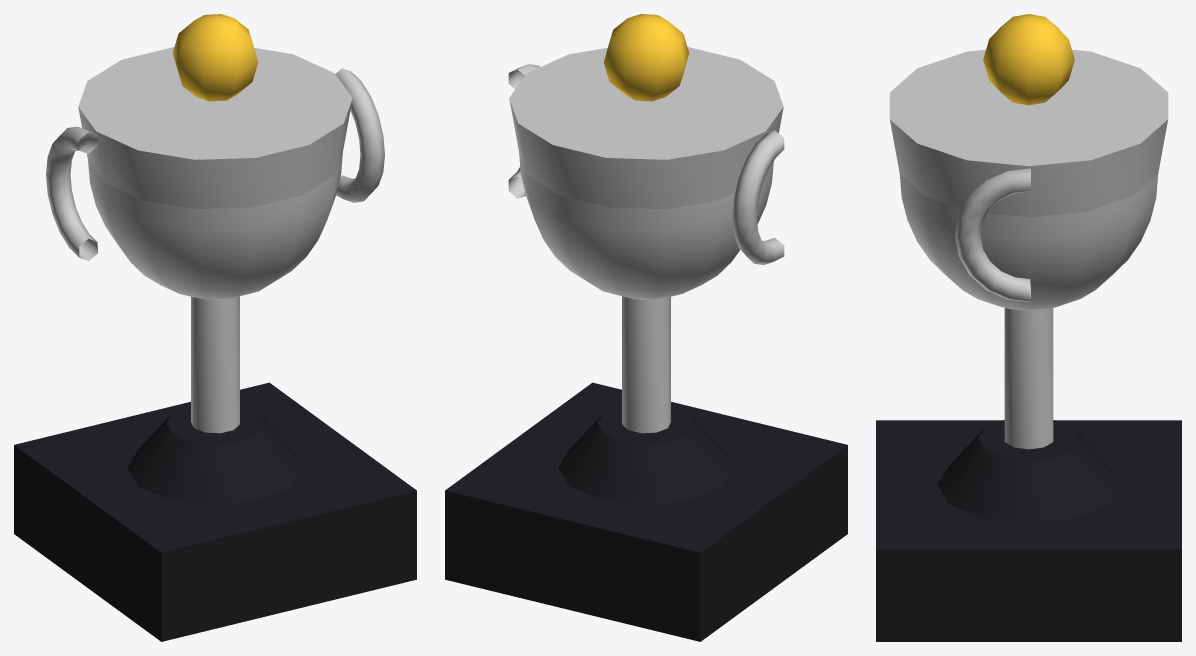
File: decor_trophy.fbx
3 renders of one model, left to right at view 1: azimuth 30°, elevation 25°; view 2: azimuth 150°, elevation 25°; view 3: azimuth 270°, elevation 25°, orthographic. The views are drawn at different scales.
Parts seen in each view (by area): view 1: decor_trophy; view 2: decor_trophy; view 3: decor_trophy.
Part boxes in pixels (left/top/right/bottom): decor_trophy: left=14, top=14, right=416, bottom=641; decor_trophy: left=445, top=14, right=847, bottom=641; decor_trophy: left=876, top=14, right=1181, bottom=641.
Bounding box in the file's own units: 0.6433 × 1.21 × 0.6.
